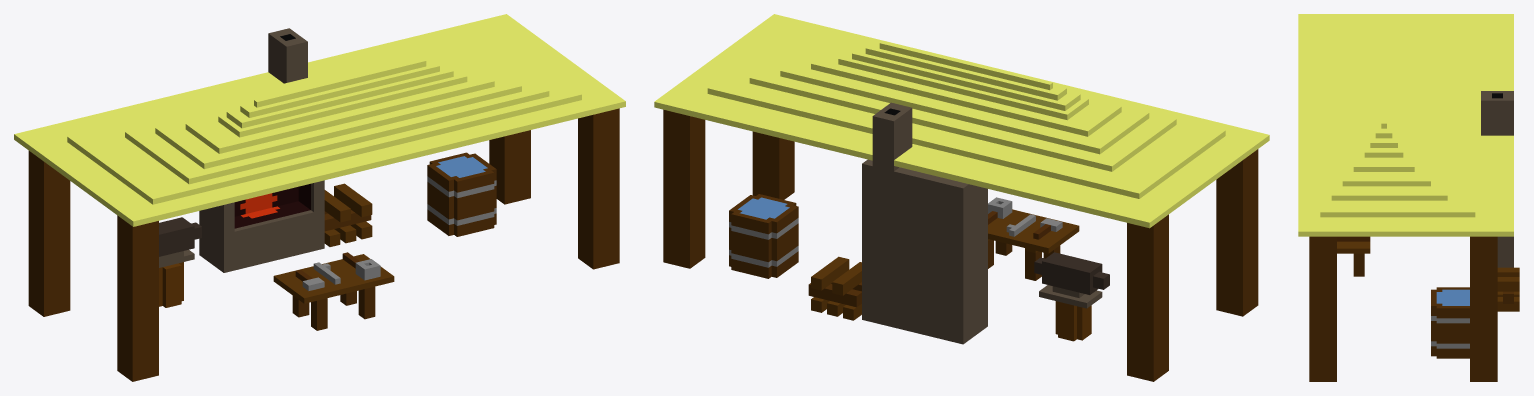
The model's file is BlacksmithForge.obj.
3 views of the same model, side by side, from view 1: azimuth 30°, elevation 25°; view 2: azimuth 150°, elevation 25°; view 3: azimuth 270°, elevation 25° (orthographic). The views are drawn at different scales.
Size of the model in its own units: 93 by 38 by 40.
1 material, 1 textured.
